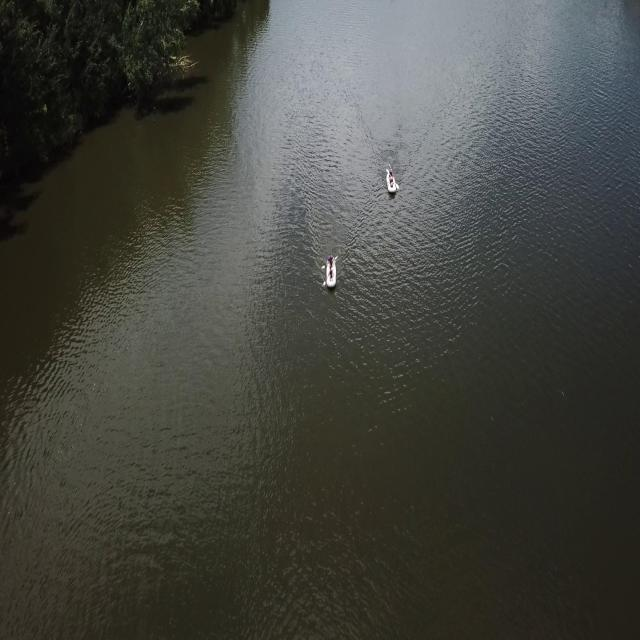kayak: (322, 252, 341, 291), (385, 165, 398, 200)
